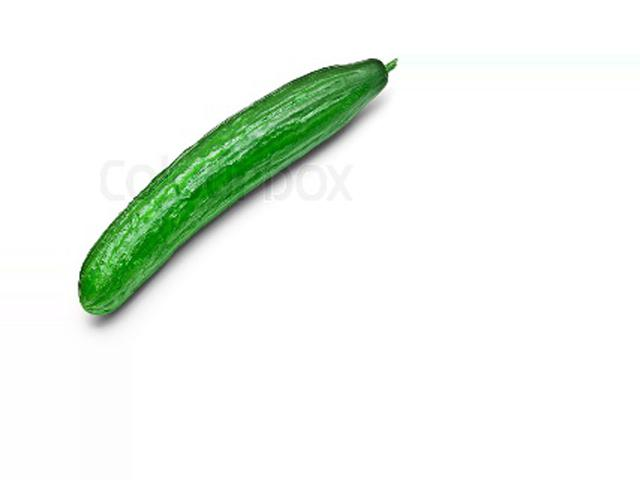cucumber: (79, 58, 400, 318)
